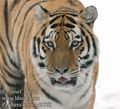Tigre: (11, 2, 106, 106)
